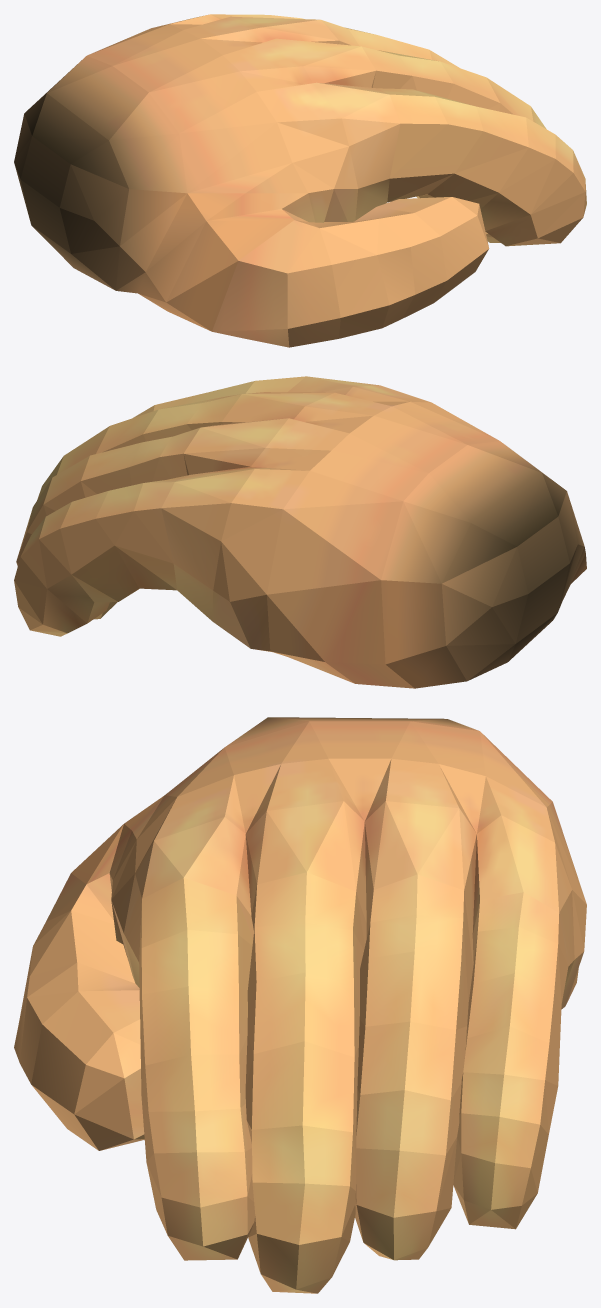
Rendered from left hand 5.obj.
The picture shows the model from 3 angles, top to bottom: view 1: azimuth 30°, elevation 25°; view 2: azimuth 150°, elevation 25°; view 3: azimuth 270°, elevation 25°; orthographic projection. The views are drawn at different scales.
Parts seen in each view (by area): view 1: n0b0_n0b0.004; view 2: n0b0_n0b0.004; view 3: n0b0_n0b0.004.
Boxes of the visible parts, left/top/right/bottom form: n0b0_n0b0.004: left=14, top=14, right=586, bottom=347; n0b0_n0b0.004: left=14, top=376, right=586, bottom=688; n0b0_n0b0.004: left=14, top=717, right=586, bottom=1293.
Bounding box in the file's own units: 7.58 × 3.49 × 5.34.
1 material, 1 textured.
